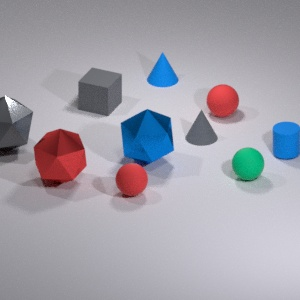lapphuong: (72, 65, 124, 117)
lucgiac: (30, 124, 91, 189), (120, 108, 173, 161), (0, 90, 32, 153)
non: (181, 105, 221, 149), (144, 49, 179, 88)
tron: (226, 143, 267, 185), (204, 82, 242, 118), (113, 162, 149, 200)
tru: (266, 117, 300, 162)
